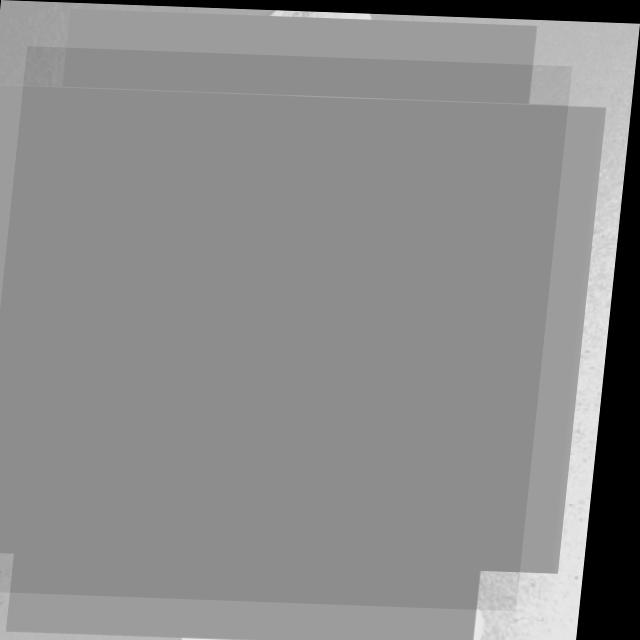qr_code: (0, 46, 572, 607)
